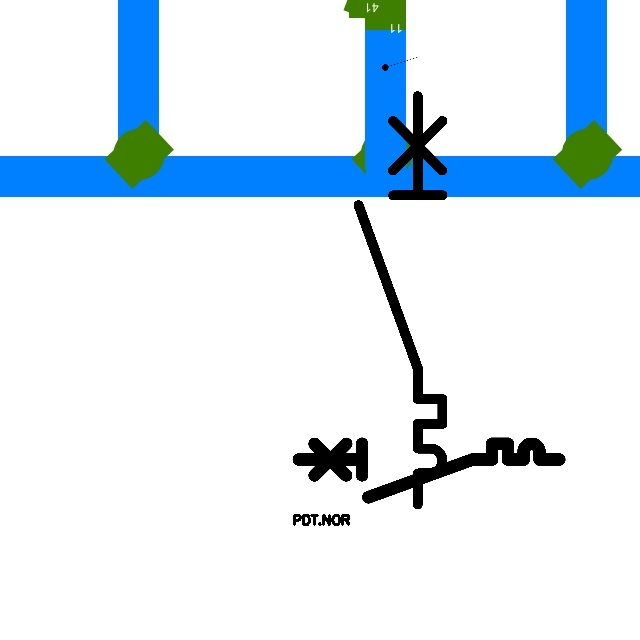interruptor_termomagnetico: (348, 85, 453, 514), (292, 437, 566, 504)
